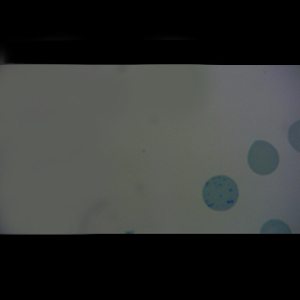aggregate reticulocyte: (201, 174, 240, 212)
erythrocyte: (245, 138, 279, 177)
